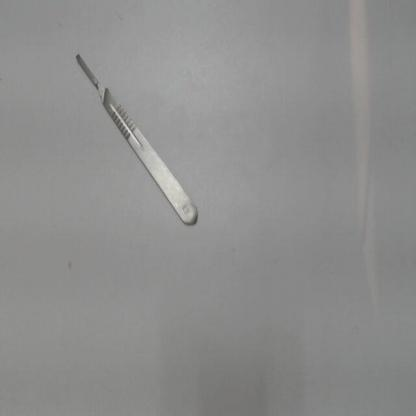No.4 BP Handle: (62, 39, 214, 249)
